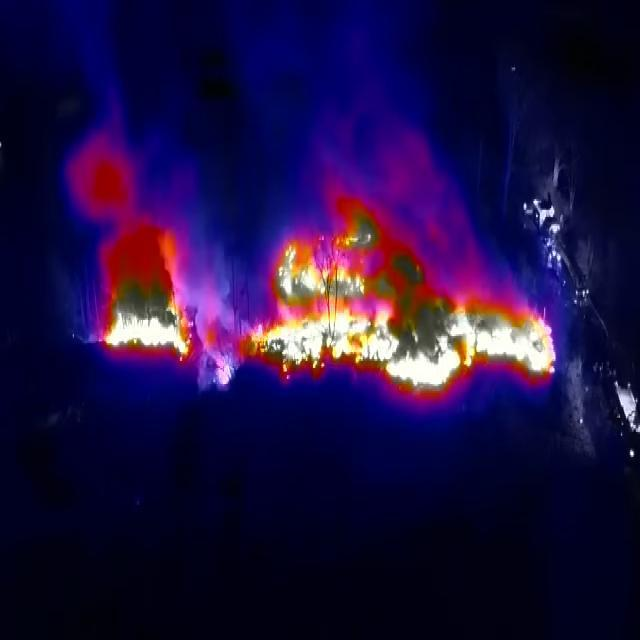fire: (243, 199, 561, 407), (95, 233, 237, 389)
